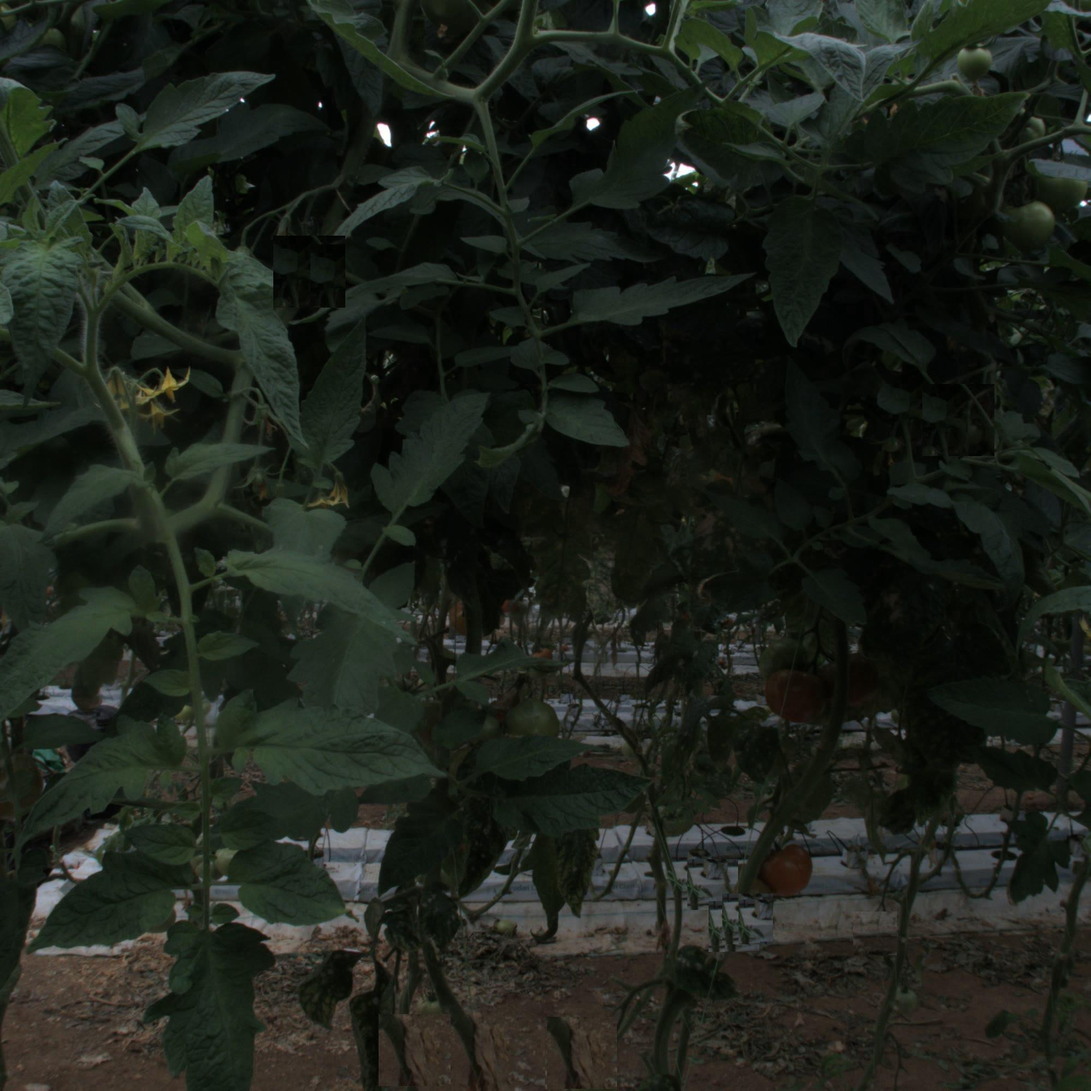fully-ripe: (771, 667, 828, 723), (762, 845, 816, 898)
unripe: (999, 197, 1056, 254), (502, 698, 559, 754)
